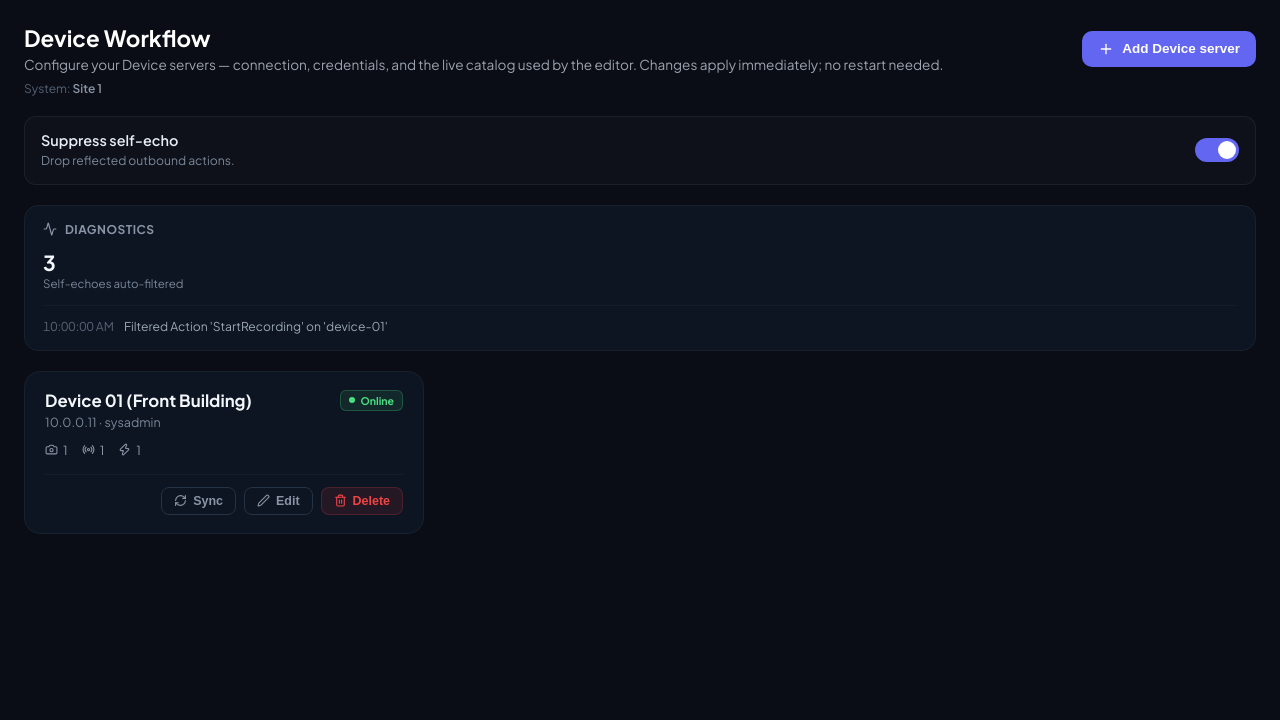
Test case: ExternalSystemsManager › syncs a target and reports the pulled catalog counts
Expected: the heading "Device Workflow" is shown, [24, 24, 211, 52]
Click the button with aria-label "Sync Device 01". click: (199, 501)
box: [161, 487, 236, 515]
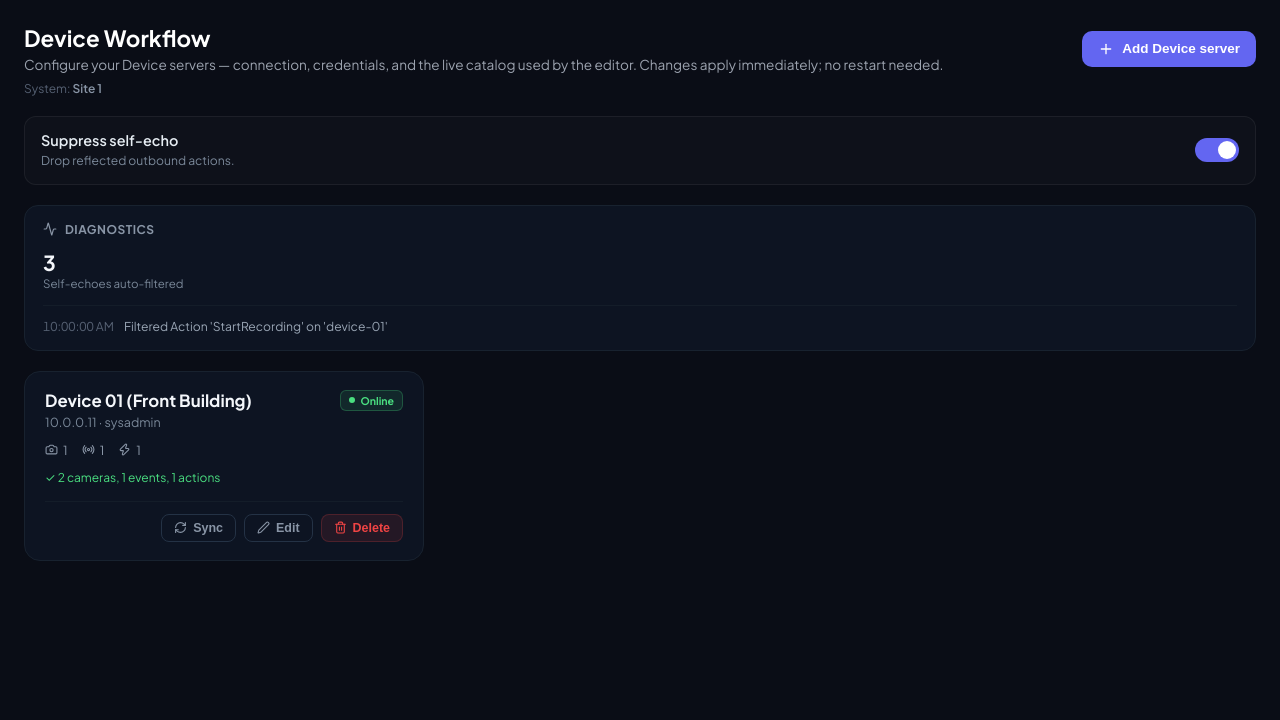
Expected: the text "✓ 2 cameras, 1 events, 1 actions" is shown, [45, 470, 220, 485]
